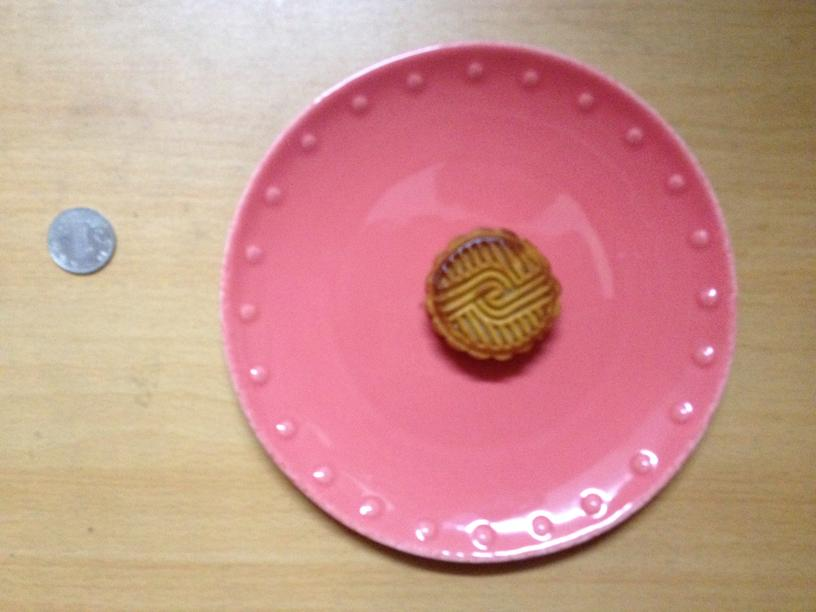coin: (45, 208, 115, 274)
mooncake: (423, 231, 559, 359)
